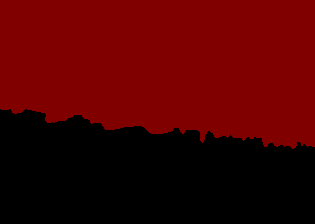Sky: (1, 1, 314, 148)
